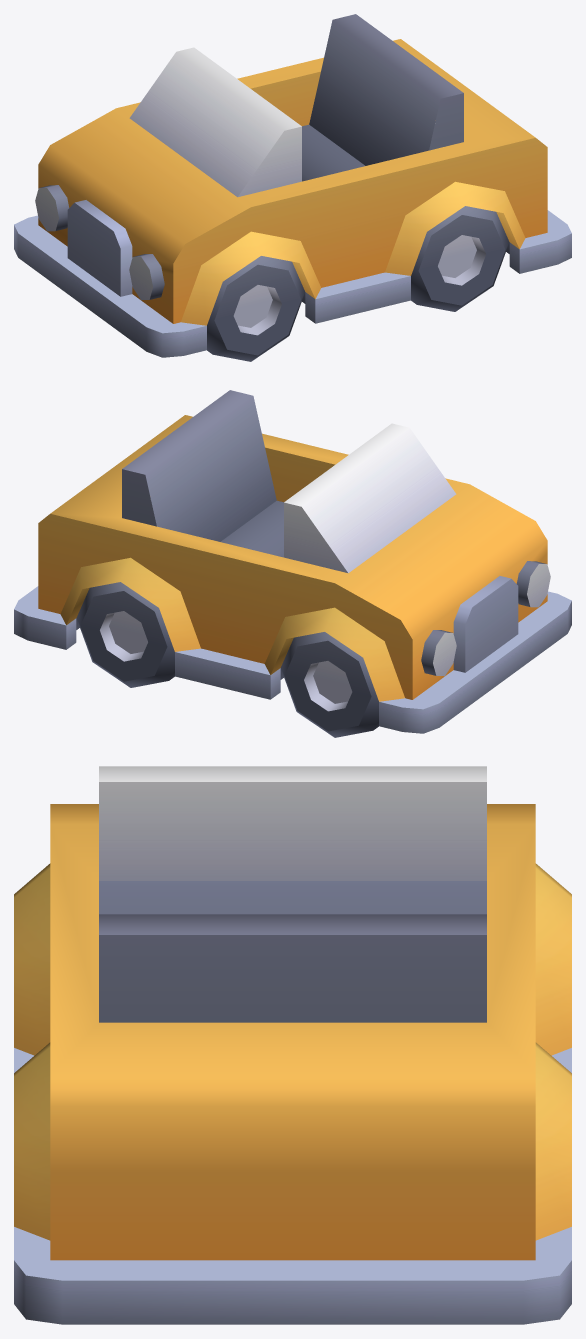
Rendered from kenney-prototype-vehicle-convertible.glb.
3 views of the same model, one above another, from view 1: azimuth 30°, elevation 25°; view 2: azimuth 150°, elevation 25°; view 3: azimuth 270°, elevation 25° (orthographic). The views are drawn at different scales.
Parts seen in each view (by area): view 1: wheel-back-left; view 2: wheel-back-left; view 3: wheel-back-left.
Part boxes in pixels (bbox=[...]): wheel-back-left: bbox=[14, 14, 571, 361]; wheel-back-left: bbox=[14, 390, 571, 737]; wheel-back-left: bbox=[14, 766, 571, 1324].
Bounding box in the file's own units: 1.42 × 0.677 × 0.9085.
1 material, 1 textured.
